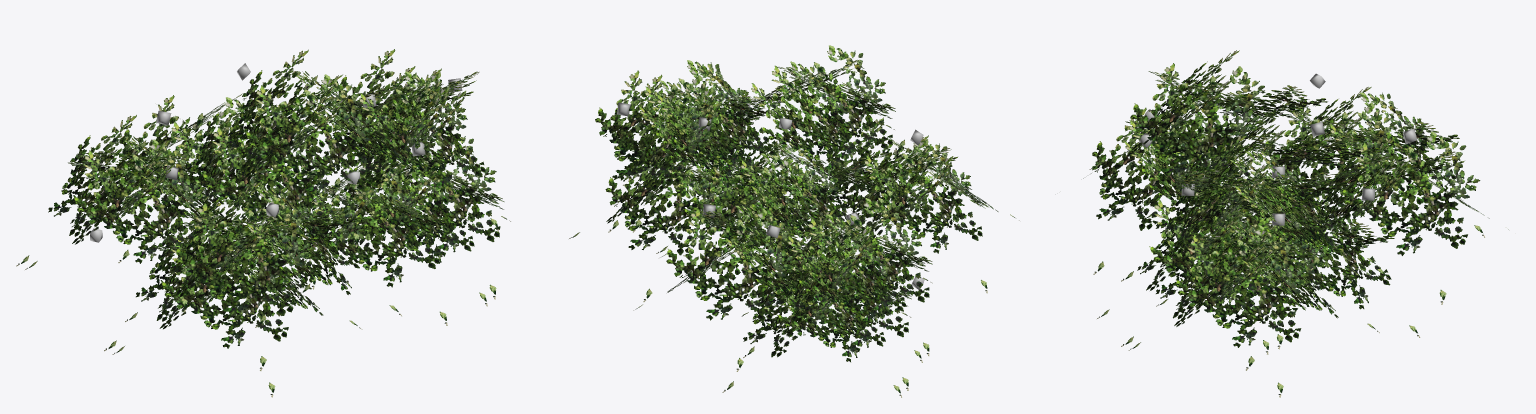
File: tree_apple_top_h.dae
3 renders of one model, left to right at view 1: azimuth 30°, elevation 25°; view 2: azimuth 150°, elevation 25°; view 3: azimuth 270°, elevation 25°, orthographic. The views are drawn at different scales.
Parts seen in each view (by area): view 1: canopy56-Pivot; view 2: canopy56-Pivot; view 3: canopy56-Pivot.
Boxes of the visible parts, bbox=[...] form: canopy56-Pivot: bbox=[16, 49, 510, 397]; canopy56-Pivot: bbox=[569, 45, 1019, 397]; canopy56-Pivot: bbox=[1083, 50, 1508, 397].
Bounding box in the file's own units: 14.03 × 12.84 × 8.59.
